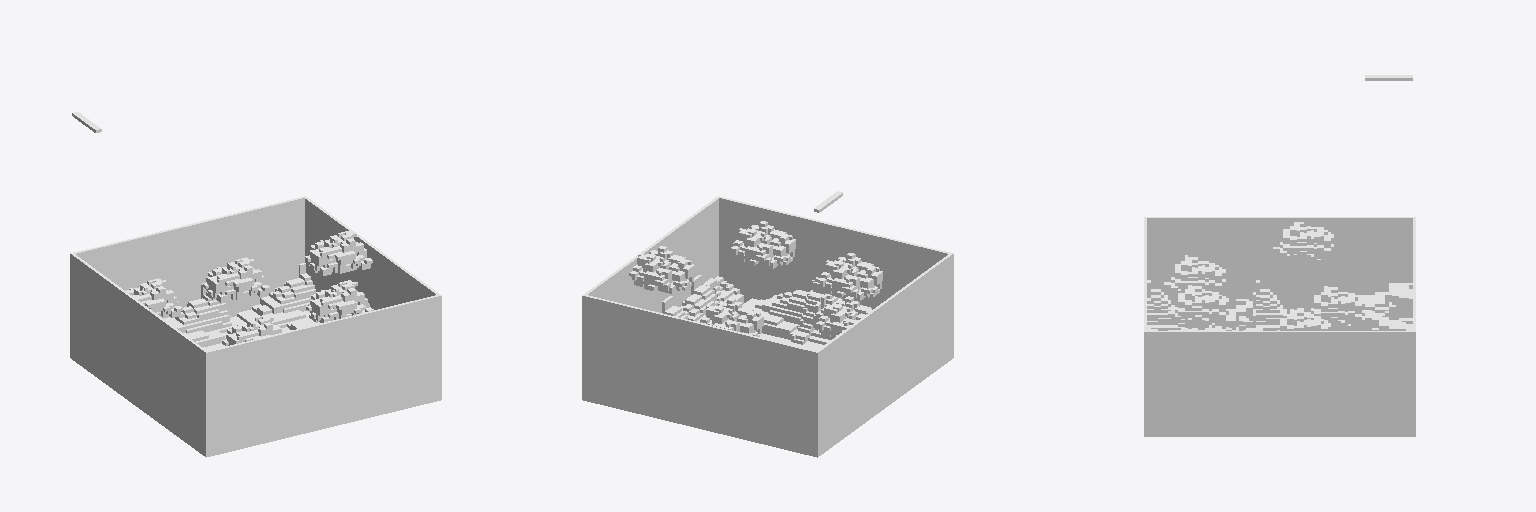
Rendered from Field3.obj.
3 views of the same model, side by side, from view 1: azimuth 30°, elevation 25°; view 2: azimuth 150°, elevation 25°; view 3: azimuth 270°, elevation 25° (orthographic).
Parts seen in each view (by area): view 1: object 1; view 2: object 1; view 3: object 1.
Part boxes in pixels (x1,y1,x2,y2): object 1: (70,112,441,457); object 1: (582,191,953,457); object 1: (1144,75,1415,436).
Bounding box in the file's own units: 8 × 8 × 8.